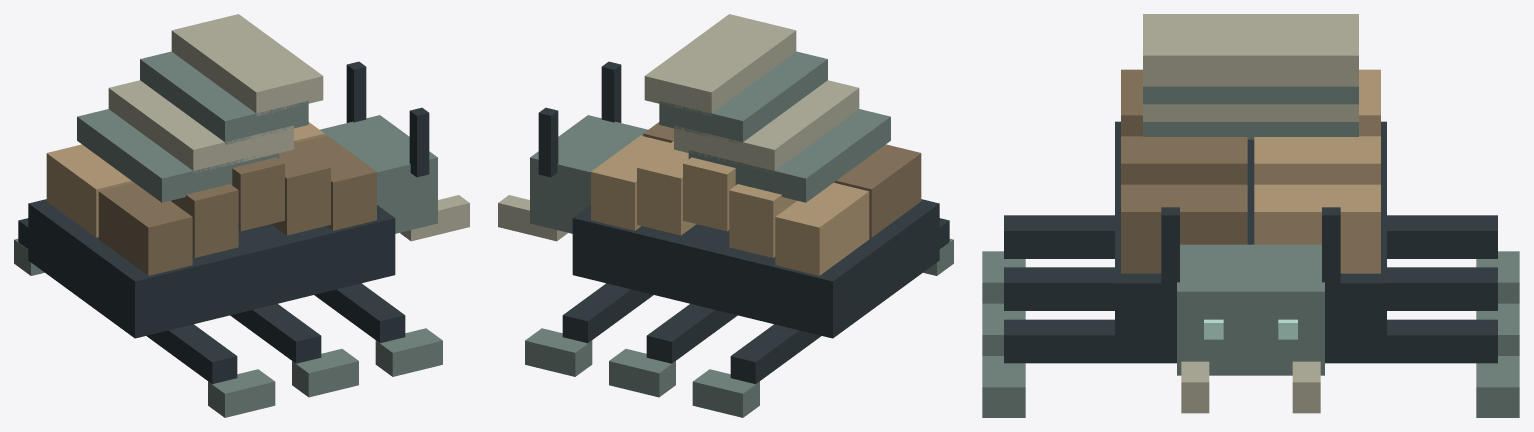
File: shell-gatherer.glb
The picture shows the model from 3 angles, left to right: view 1: azimuth 30°, elevation 25°; view 2: azimuth 150°, elevation 25°; view 3: azimuth 270°, elevation 25°; orthographic projection. The views are drawn at different scales.
Visible parts, largest first — view 1: GatheredShells, Shell, Body, Legs, Feet, Head, Feelers, Mandibles; view 2: GatheredShells, Shell, Body, Legs, Feet, Head, Feelers, Mandibles; view 3: Shell, Legs, GatheredShells, Head, Body, Feet, Feelers, Mandibles, Eyes.
Part boxes in pixels (left/top/right/bottom): GatheredShells: left=77, top=14, right=323, bottom=202; Shell: left=46, top=122, right=376, bottom=275; Body: left=28, top=199, right=395, bottom=338; Legs: left=18, top=218, right=405, bottom=384; Feet: left=14, top=238, right=442, bottom=417; Head: left=320, top=115, right=437, bottom=233; Feelers: left=346, top=61, right=429, bottom=177; Mandibles: left=400, top=195, right=469, bottom=241; GatheredShells: left=644, top=14, right=890, bottom=202; Shell: left=591, top=122, right=921, bottom=275; Body: left=572, top=199, right=939, bottom=338; Legs: left=562, top=218, right=949, bottom=384; Feet: left=525, top=238, right=953, bottom=417; Head: left=530, top=115, right=647, bottom=233; Feelers: left=538, top=61, right=621, bottom=177; Mandibles: left=498, top=195, right=567, bottom=241; Shell: left=1121, top=69, right=1380, bottom=273; Legs: left=1004, top=215, right=1497, bottom=363; GatheredShells: left=1143, top=14, right=1358, bottom=139; Head: left=1177, top=244, right=1324, bottom=375; Body: left=1115, top=121, right=1386, bottom=356; Feet: left=982, top=251, right=1519, bottom=417; Feelers: left=1161, top=207, right=1340, bottom=293; Mandibles: left=1181, top=361, right=1320, bottom=413; Eyes: left=1204, top=319, right=1297, bottom=339.
Bounding box in the file's own units: 8.6 × 5.84 × 8.7.
